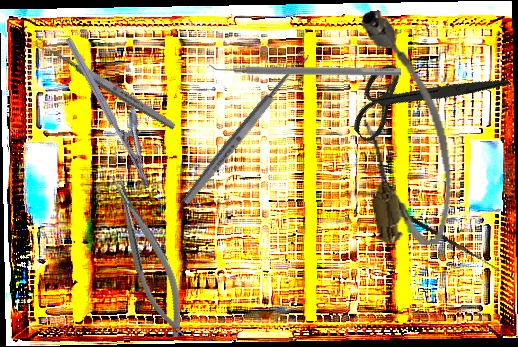Cannula: (345, 3, 462, 252)
Hook Surgical: (387, 203, 504, 272)
Iris Scissors: (335, 9, 511, 184)
Needle Holder: (64, 26, 171, 190), (104, 167, 194, 344)
Spatula Surgical: (209, 59, 401, 76)
Surgical Spoon: (180, 49, 311, 207), (33, 35, 178, 133)
